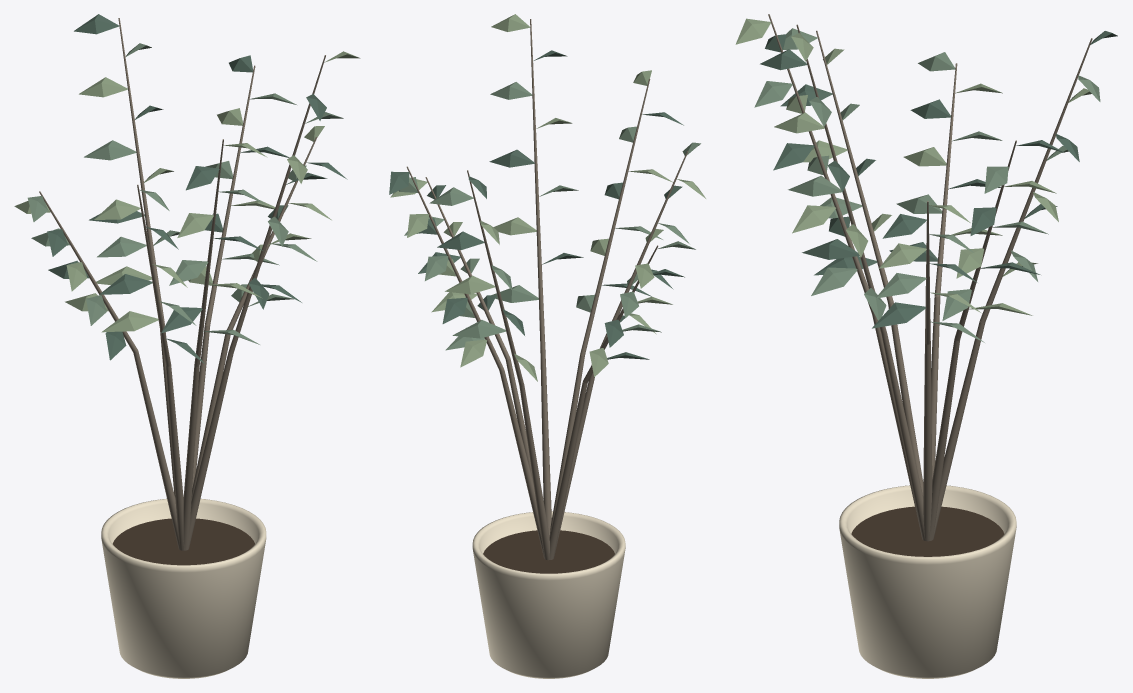
File: potted-gum.glb
The picture shows the model from 3 angles, left to right: view 1: azimuth 30°, elevation 25°; view 2: azimuth 150°, elevation 25°; view 3: azimuth 270°, elevation 25°; orthographic projection. The views are drawn at different scales.
Visible parts, largest first — view 1: Glazed ivory ceramic, Grey-brown gum bark, Gum leaf 2, Gum leaf 1, Gum leaf 0, Potting mix; view 2: Glazed ivory ceramic, Grey-brown gum bark, Gum leaf 2, Gum leaf 0, Gum leaf 1, Potting mix; view 3: Glazed ivory ceramic, Grey-brown gum bark, Gum leaf 0, Gum leaf 1, Gum leaf 2, Potting mix.
Part boxes in pixels (box(x1,y1,x2,y2)): Glazed ivory ceramic: box(101, 498, 266, 678); Grey-brown gum bark: box(39, 18, 325, 550); Gum leaf 2: box(14, 51, 360, 332); Gum leaf 1: box(47, 14, 347, 363); Gum leaf 0: box(27, 43, 343, 344); Potting mix: box(112, 518, 254, 565); Glazed ivory ceramic: box(472, 511, 625, 678); Grey-brown gum bark: box(406, 19, 688, 560); Gum leaf 2: box(390, 14, 705, 381); Gum leaf 0: box(399, 82, 700, 350); Gum leaf 1: box(389, 50, 684, 359); Potting mix: box(483, 530, 614, 573); Glazed ivory ceramic: box(839, 485, 1016, 678); Grey-brown gum bark: box(768, 14, 1092, 541); Gum leaf 0: box(754, 28, 1100, 342); Gum leaf 1: box(760, 31, 1117, 328); Gum leaf 2: box(735, 18, 1091, 315); Potting mix: box(851, 506, 1004, 556).
Size of the model in its own units: 0.8992 by 1.75 by 0.907.
